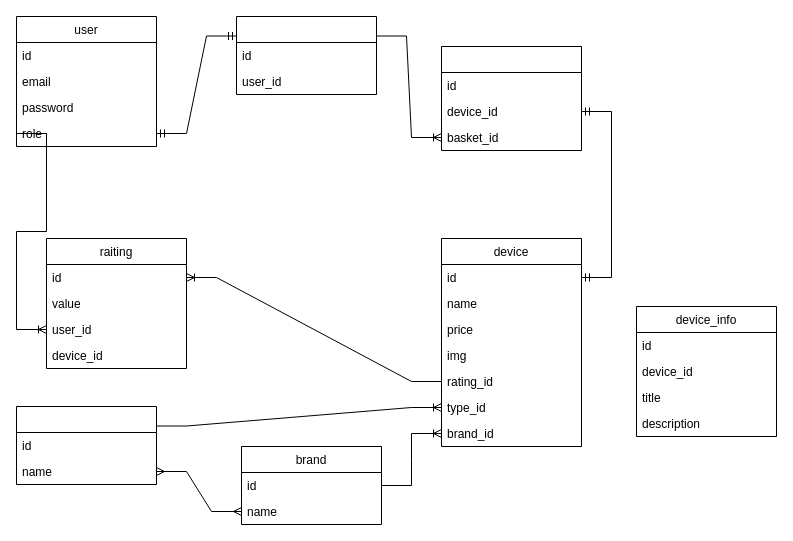
Some shapes in this 793 by 541 pixel diagram are drawn without their labels. The box of each missing label's shape, as (x1, y1, x2, y2) in pixels:
basket: (236, 16, 376, 94)
basket_device: (440, 46, 582, 150)
type: (16, 406, 156, 484)
